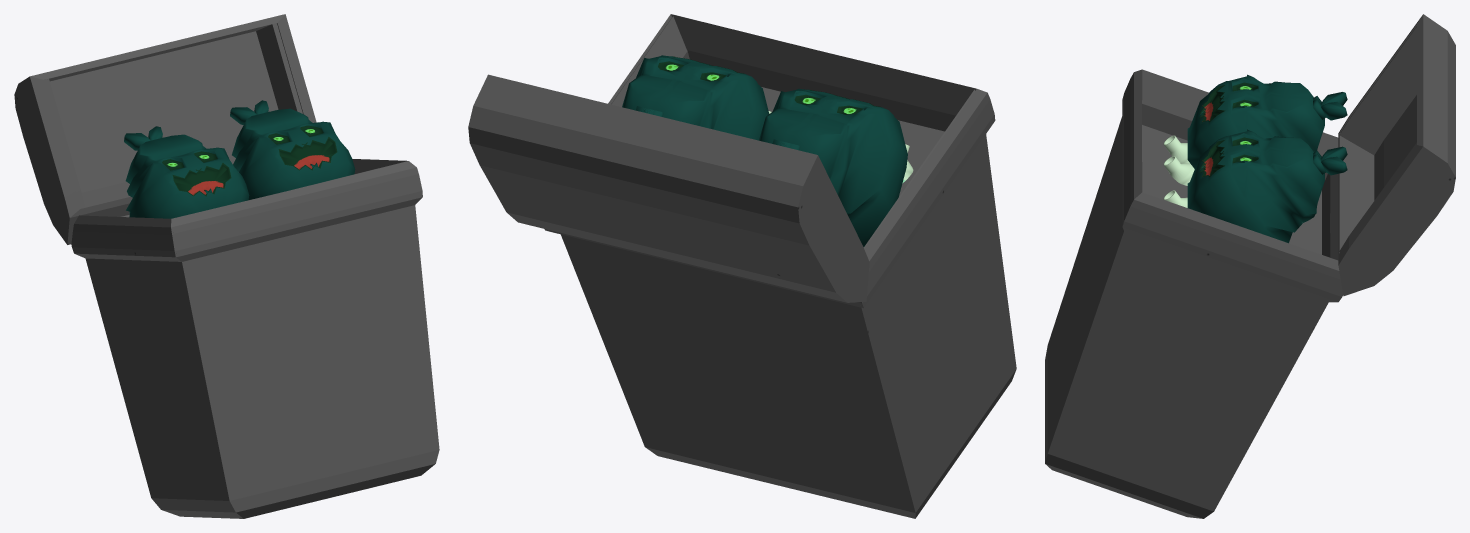
Rendered from pegote_enemy.obj.
3 views of the same model, side by side, from view 1: azimuth 30°, elevation 25°; view 2: azimuth 150°, elevation 25°; view 3: azimuth 270°, elevation 25° (orthographic). The views are drawn at different scales.
Parts seen in each view (by area): view 1: bote_de_basura.001, bote_de_basura; view 2: bote_de_basura.001, bote_de_basura; view 3: bote_de_basura.001, bote_de_basura.
Boxes of the visible parts, <box> form: bote_de_basura.001: <box>14,14,439,518</box>; bote_de_basura: <box>124,100,355,218</box>; bote_de_basura.001: <box>468,14,1016,518</box>; bote_de_basura: <box>622,55,913,246</box>; bote_de_basura.001: <box>1045,14,1455,518</box>; bote_de_basura: <box>1163,74,1347,243</box>.
Size of the model in its own units: 4.18 by 5.76 by 5.49.
5 materials, 5 textured.
